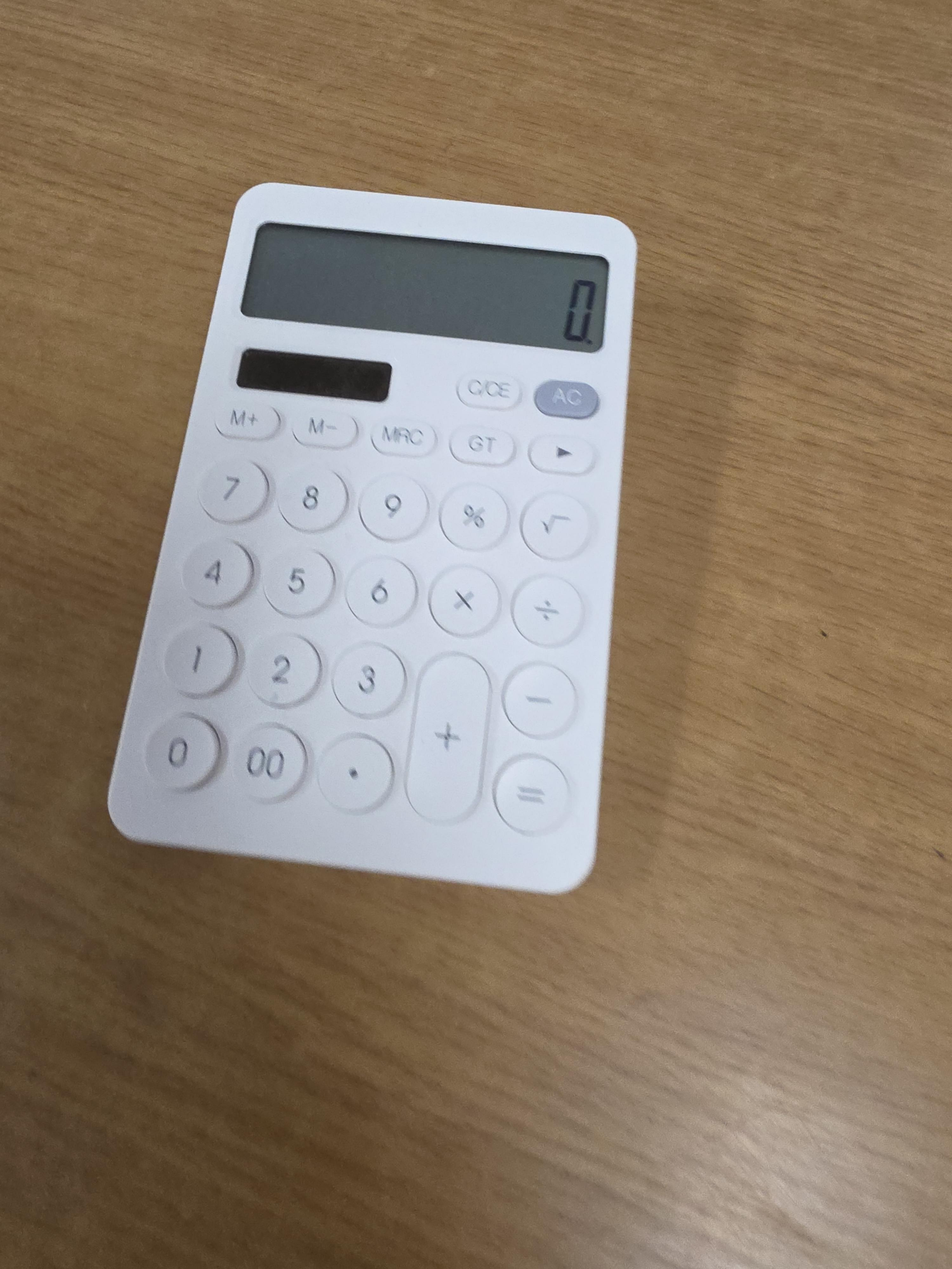calculator: (105, 181, 638, 894)
